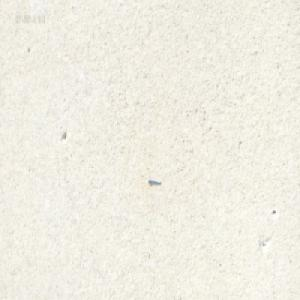Nail: (147, 175, 161, 184)
